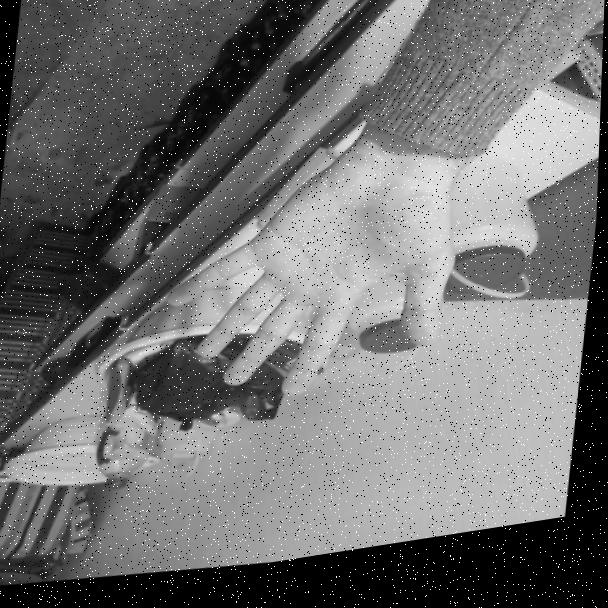five: (145, 131, 485, 438)
